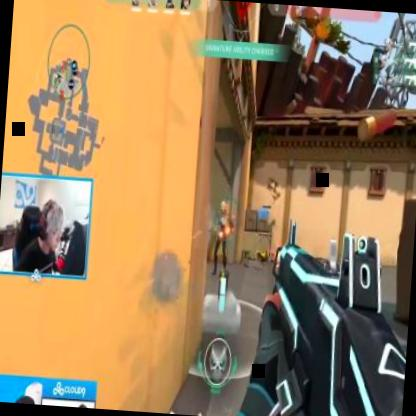enemy: (212, 199, 234, 276)
enemy_head: (220, 201, 226, 214)
